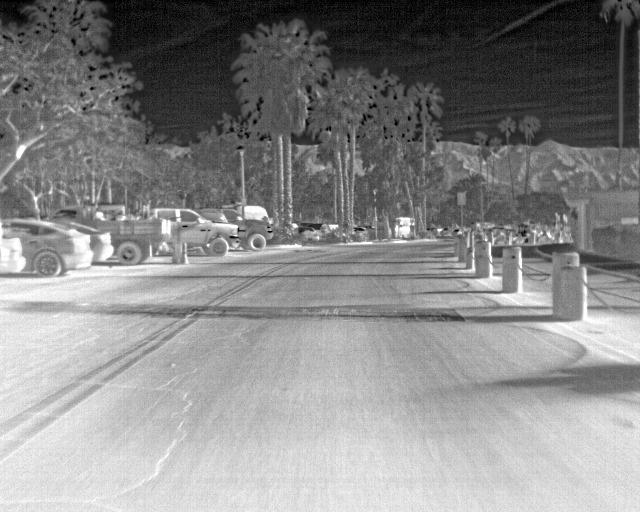car: (25, 217, 93, 276), (188, 209, 239, 256), (237, 210, 273, 249), (0, 226, 23, 277), (91, 225, 112, 267), (312, 222, 339, 237), (299, 222, 316, 237)
